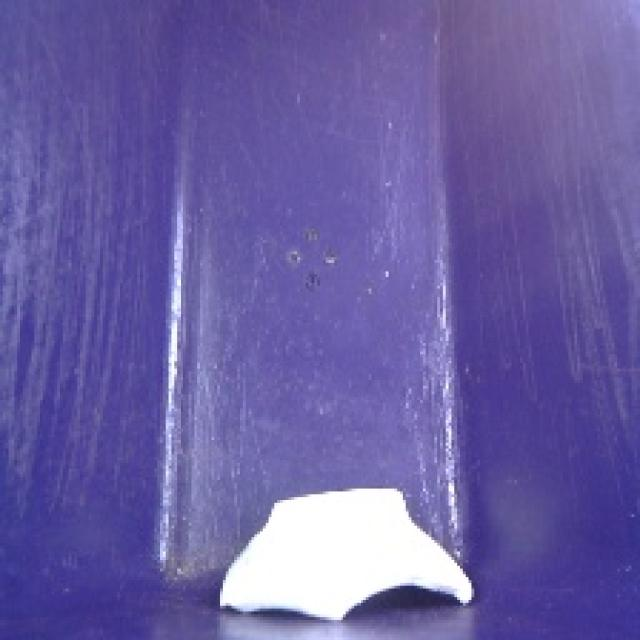china: (207, 464, 488, 634)
